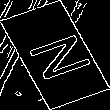N_NE: (16, 27, 94, 83)
